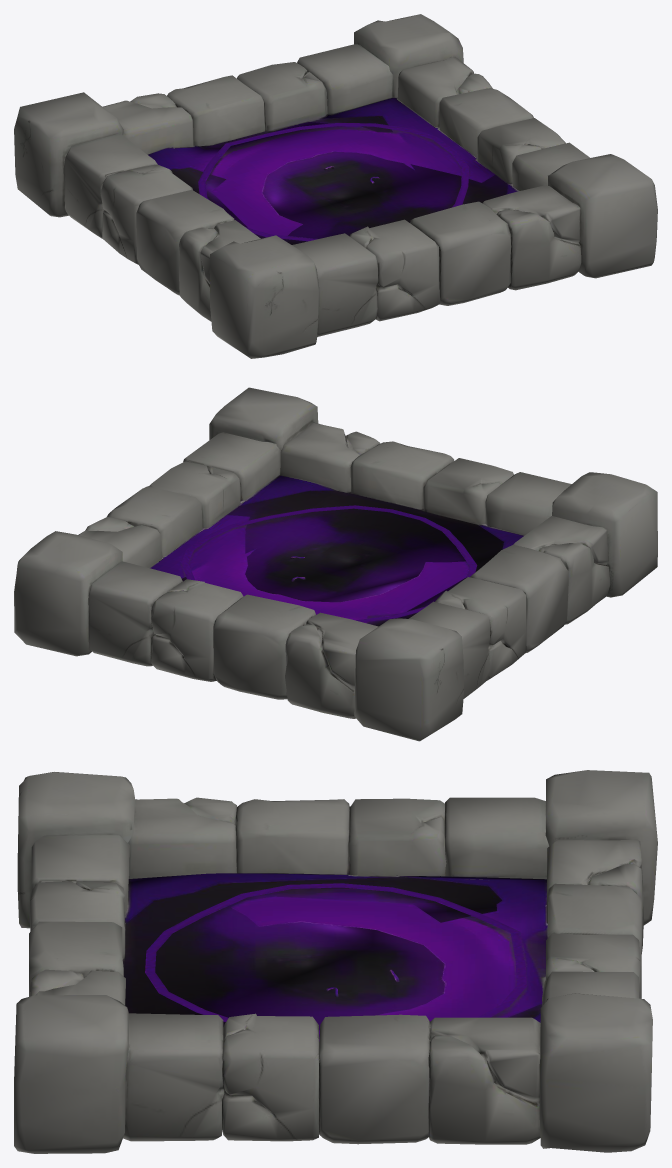
The model's file is selected.glb.
3 renders of one model, top to bottom at view 1: azimuth 30°, elevation 25°; view 2: azimuth 150°, elevation 25°; view 3: azimuth 270°, elevation 25°, orthographic. The views are drawn at different scales.
Visible parts, largest first — view 1: tripo_node_ab08d49a-2647-4278-8250-2621c0b689be; view 2: tripo_node_ab08d49a-2647-4278-8250-2621c0b689be; view 3: tripo_node_ab08d49a-2647-4278-8250-2621c0b689be.
Boxes of the visible parts, box(x1,y1,x2,y2) form: tripo_node_ab08d49a-2647-4278-8250-2621c0b689be: box(14, 14, 657, 358); tripo_node_ab08d49a-2647-4278-8250-2621c0b689be: box(14, 387, 657, 741); tripo_node_ab08d49a-2647-4278-8250-2621c0b689be: box(14, 770, 657, 1153).
Size of the model in its own units: 0.998 by 0.2051 by 0.998.
Materials: 1 (1 with a texture image).
